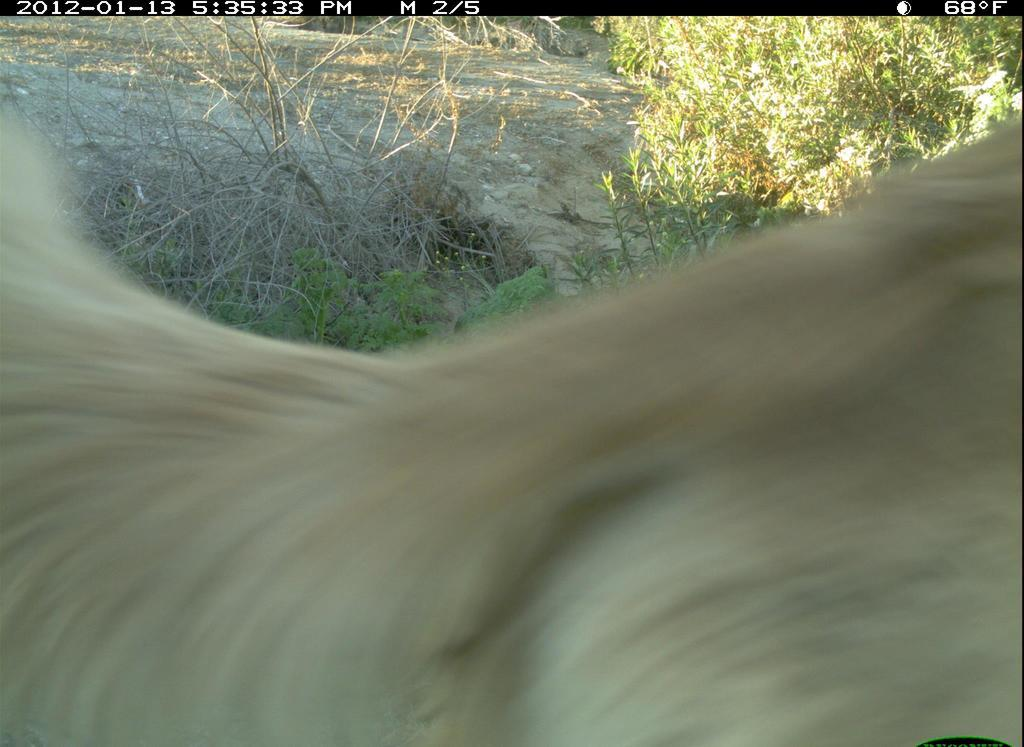dog: (4, 91, 1023, 747)
